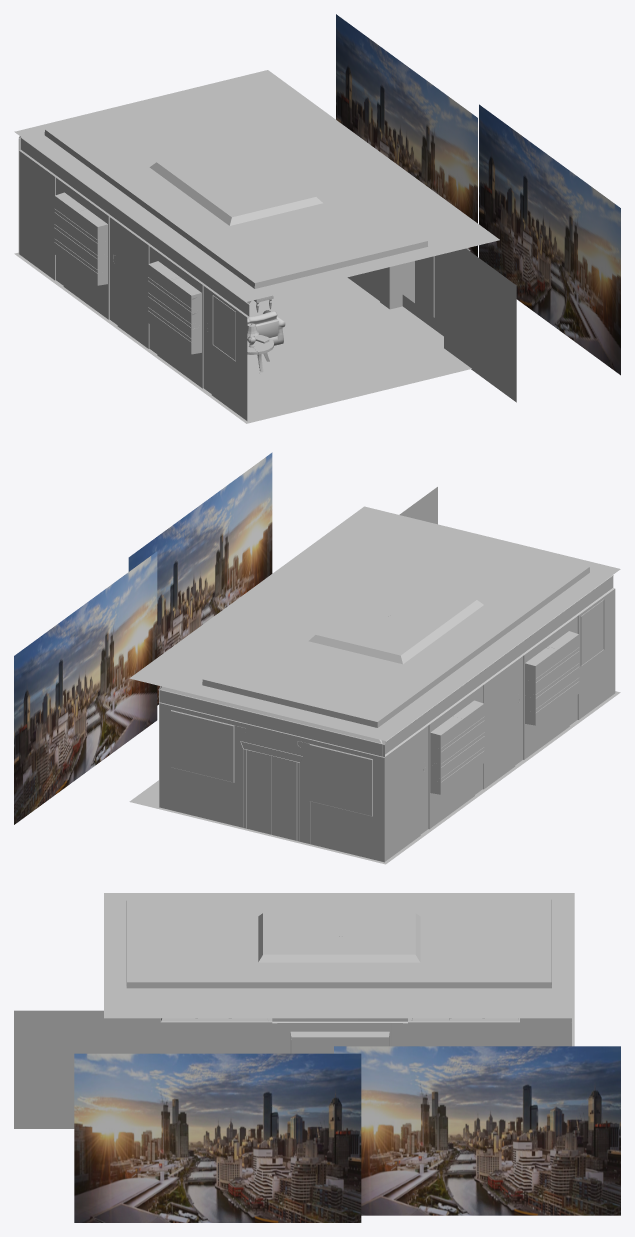
File: XinLiYiShengGongZuoShi_01.FBX
3 renders of one model, top to bottom at view 1: azimuth 30°, elevation 25°; view 2: azimuth 150°, elevation 25°; view 3: azimuth 270°, elevation 25°, orthographic.
Parts seen in each view (by area): view 1: XinLiYiShengGongZuoShi_01_qiangbi_01, Plane002, Plane001, Object001, XinLiYiShengGongZuoShi_01_shafazu_01; view 2: XinLiYiShengGongZuoShi_01_qiangbi_01, Plane001, Plane002; view 3: XinLiYiShengGongZuoShi_01_qiangbi_01, Plane002, Plane001, Object001.
Boxes of the visible parts, box(x1,y1,x2,y2) form: XinLiYiShengGongZuoShi_01_qiangbi_01: box(14, 70, 516, 423); Plane002: box(479, 104, 620, 375); Plane001: box(336, 14, 477, 256); Object001: box(415, 254, 443, 324); XinLiYiShengGongZuoShi_01_shafazu_01: box(247, 295, 285, 372); XinLiYiShengGongZuoShi_01_qiangbi_01: box(129, 487, 620, 864); Plane001: box(14, 551, 157, 824); Plane002: box(128, 452, 272, 705); XinLiYiShengGongZuoShi_01_qiangbi_01: box(14, 893, 574, 1128); Plane002: box(74, 1053, 361, 1222); Plane001: box(334, 1046, 620, 1215); Object001: box(161, 1022, 519, 1053).
Bounding box in the file's own units: 5097 × 2221 × 7218.
